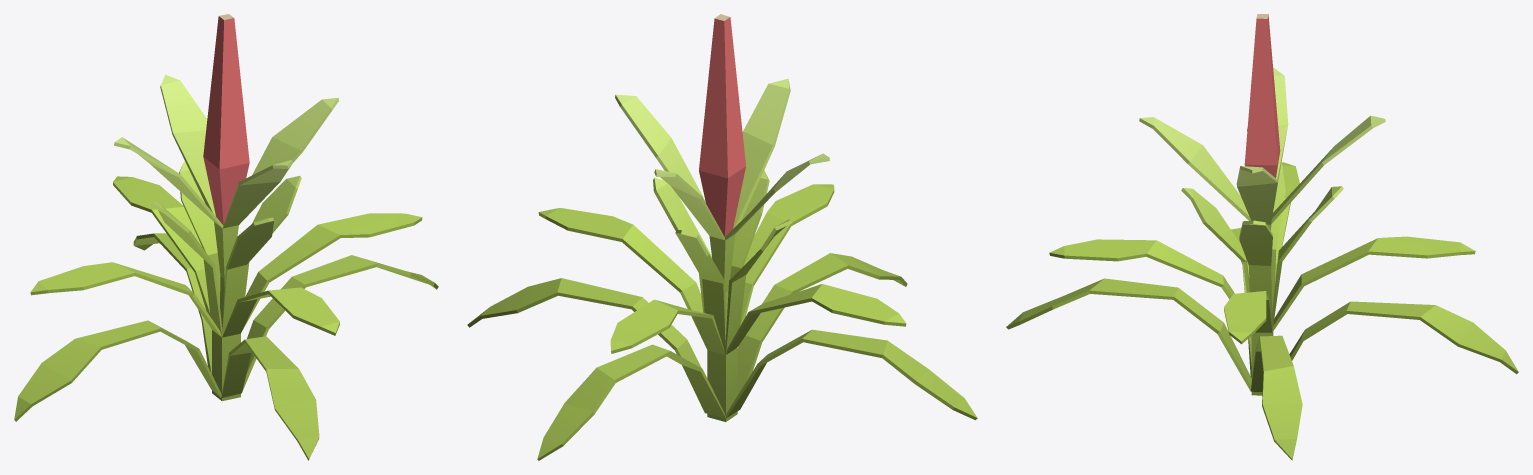
Rendered from Plant5.fbx.
3 views of the same model, side by side, from view 1: azimuth 30°, elevation 25°; view 2: azimuth 150°, elevation 25°; view 3: azimuth 270°, elevation 25° (orthographic). The views are drawn at different scales.
Parts seen in each view (by area): view 1: Plant_5_Plane.001; view 2: Plant_5_Plane.001; view 3: Plant_5_Plane.001.
Boxes of the visible parts, x1,y1,x2,y2 form: Plant_5_Plane.001: [14, 14, 438, 460]; Plant_5_Plane.001: [467, 14, 977, 460]; Plant_5_Plane.001: [1006, 14, 1518, 460].
Size of the model in its own units: 174 by 139 by 172.
